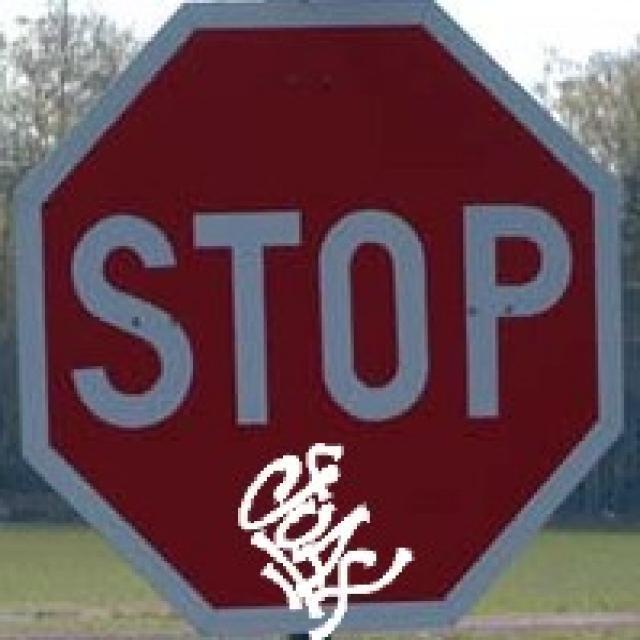Stop-Sign: (70, 38, 556, 571)
